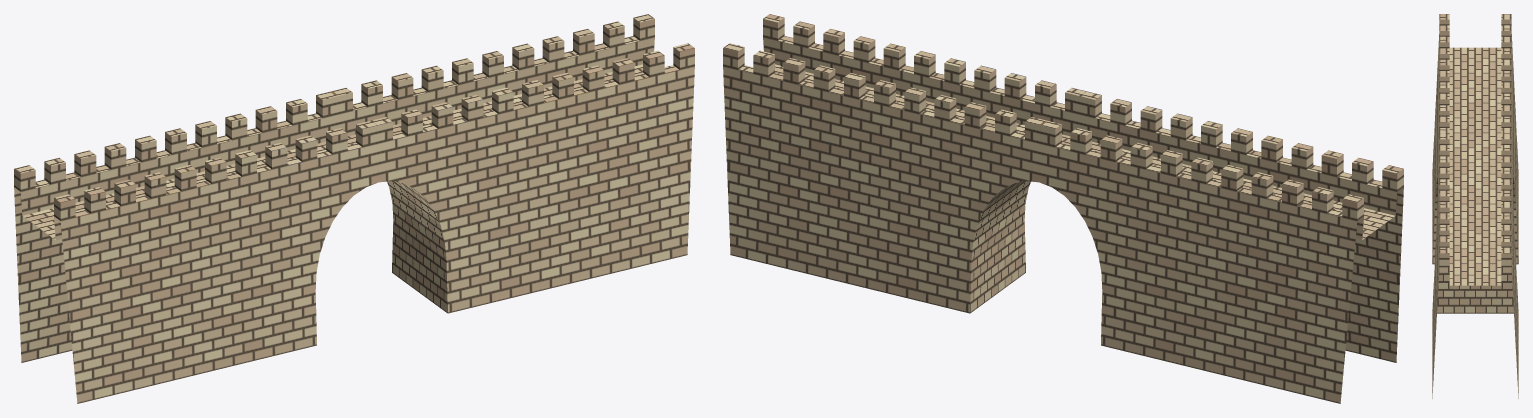
The model's file is 357cca96-c28d-48b3-b4af-ea7b64f42fe4.glb.
3 views of the same model, side by side, from view 1: azimuth 30°, elevation 25°; view 2: azimuth 150°, elevation 25°; view 3: azimuth 270°, elevation 25° (orthographic). The views are drawn at different scales.
Parts seen in each view (by area): view 1: CastleGate; view 2: CastleGate; view 3: CastleGate.
Part boxes in pixels (bbox=[...]): CastleGate: bbox=[14, 14, 694, 403]; CastleGate: bbox=[723, 14, 1403, 403]; CastleGate: bbox=[1432, 14, 1518, 398].
Size of what is drawn, in the model's own units: 10.92 by 3.3 by 1.67.
Materials: 1 (1 with a texture image).
